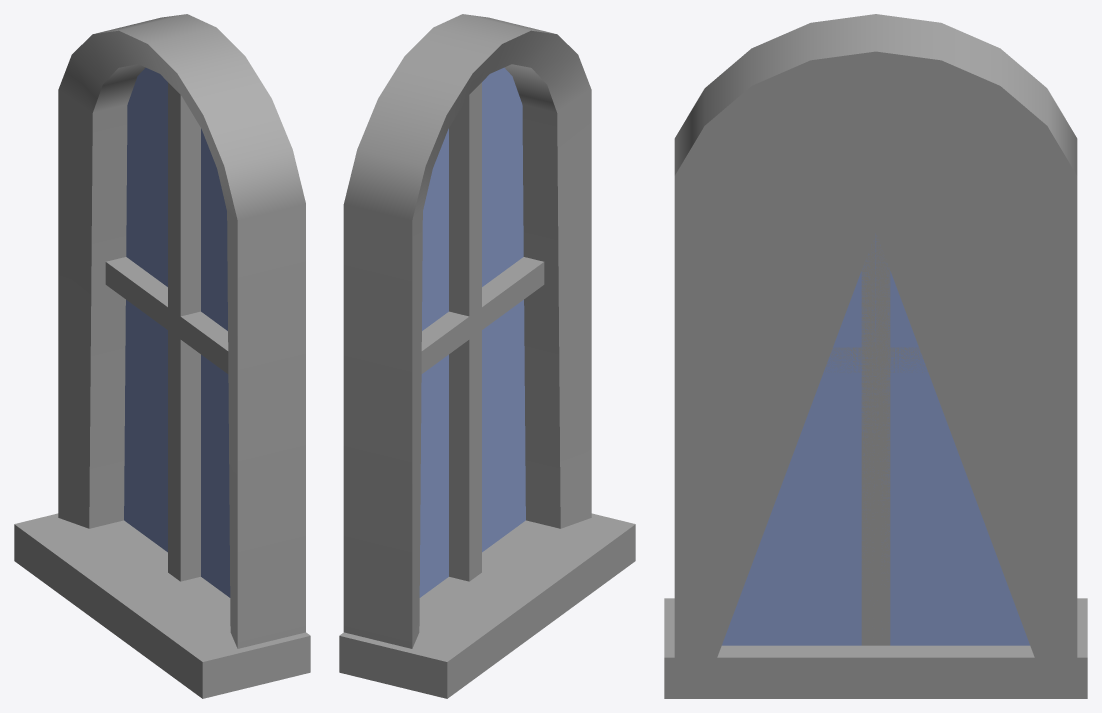
Rendered from Town_hall_Archwindow_small.fbx.
3 renders of one model, left to right at view 1: azimuth 30°, elevation 25°; view 2: azimuth 150°, elevation 25°; view 3: azimuth 270°, elevation 25°, orthographic. The views are drawn at different scales.
Parts seen in each view (by area): view 1: Town_hall_Archwindow_small; view 2: Town_hall_Archwindow_small; view 3: Town_hall_Archwindow_small.
Part boxes in pixels (x1,y1,x2,y2): Town_hall_Archwindow_small: (14,14,310,698); Town_hall_Archwindow_small: (339,14,635,698); Town_hall_Archwindow_small: (664,14,1087,698).
Bounding box in the file's own units: 22.94 × 117 × 69.3.
